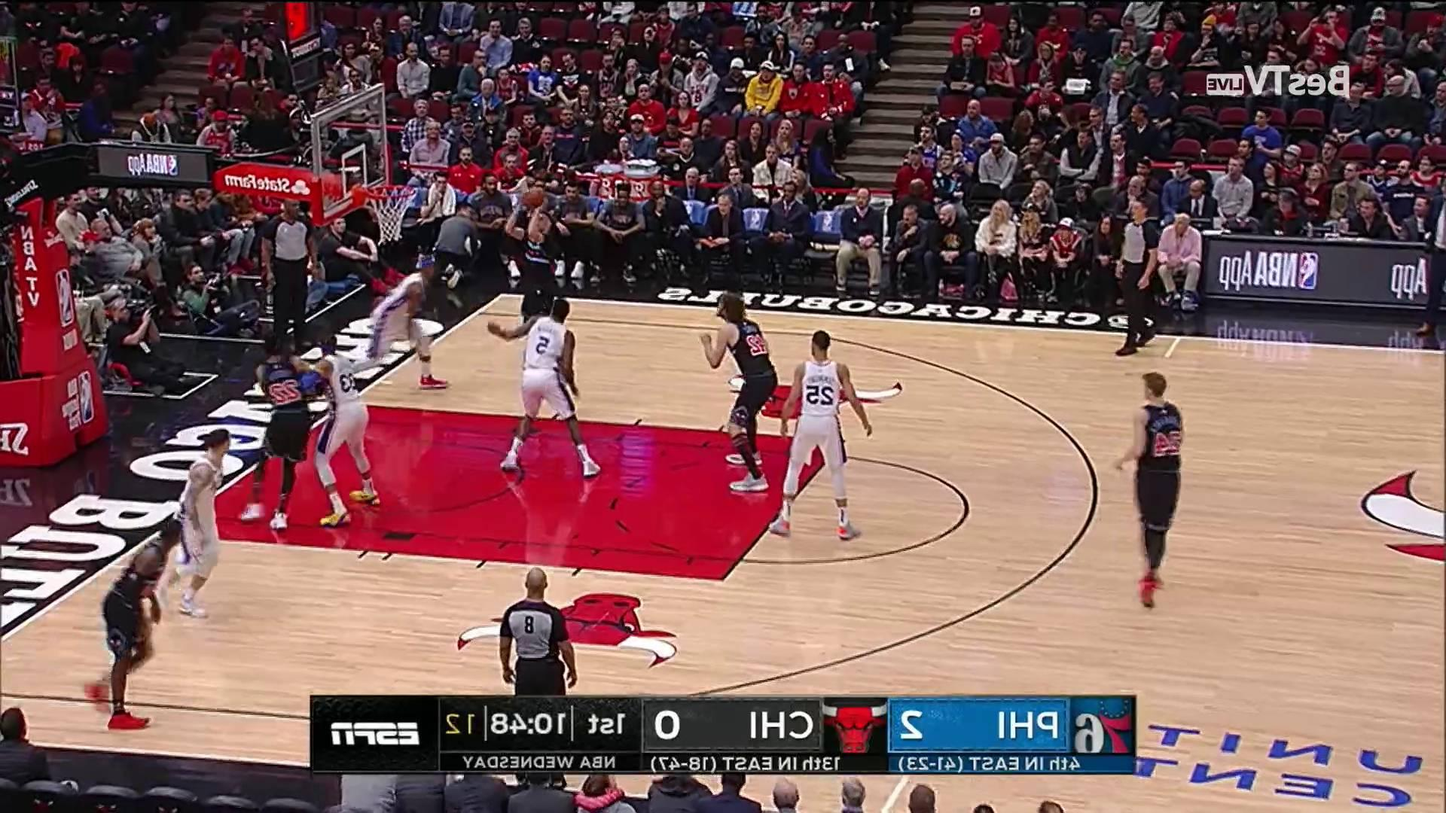basketball: (518, 184, 544, 211)
